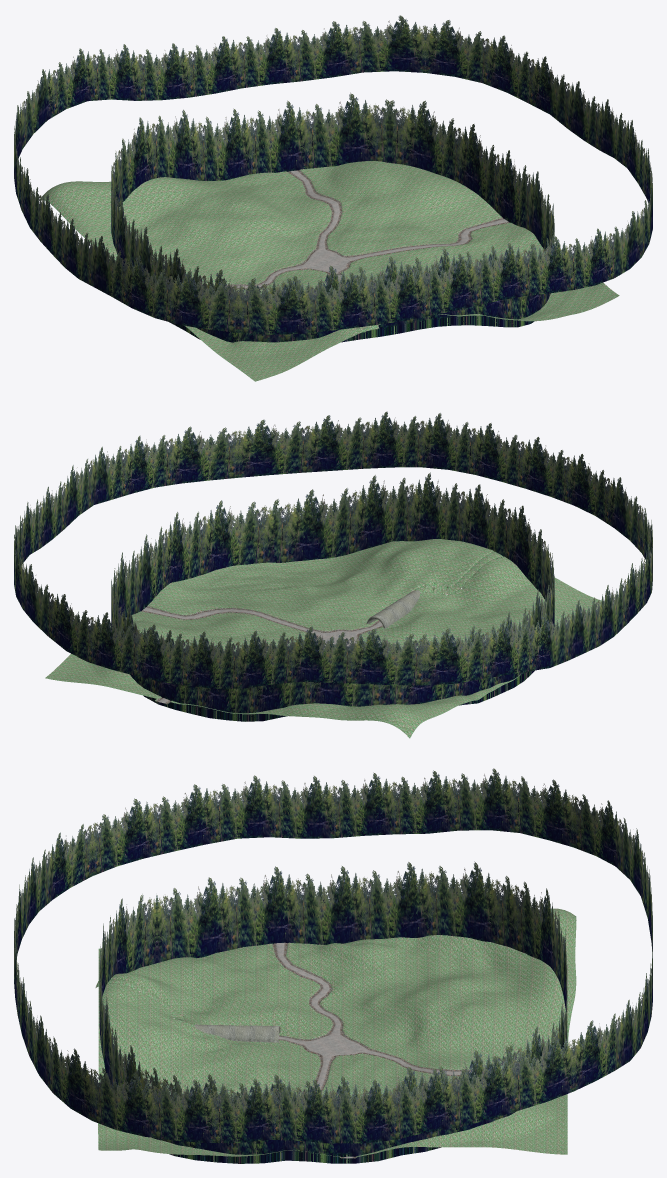
Rendered from ForestEnd.glb.
3 views of the same model, one above another, from view 1: azimuth 30°, elevation 25°; view 2: azimuth 150°, elevation 25°; view 3: azimuth 270°, elevation 25° (orthographic). The views are drawn at different scales.
Visible parts, largest first — view 1: ForestBG, Path.003; view 2: ForestBG, Path.003, Sphere; view 3: ForestBG, Path.003, Sphere.
Part boxes in pixels (left/top/right/bottom): ForestBG: left=14, top=15, right=652, bottom=342; Path.003: left=39, top=161, right=619, bottom=381; ForestBG: left=14, top=411, right=652, bottom=721; Path.003: left=45, top=523, right=601, bottom=738; Sphere: left=366, top=590, right=420, bottom=628; ForestBG: left=14, top=768, right=652, bottom=1163; Path.003: left=95, top=908, right=576, bottom=1158; Sphere: left=194, top=1024, right=280, bottom=1042.
Bounding box in the file's own units: 118 × 35.15 × 109.
Materials: 5 (5 with a texture image).
